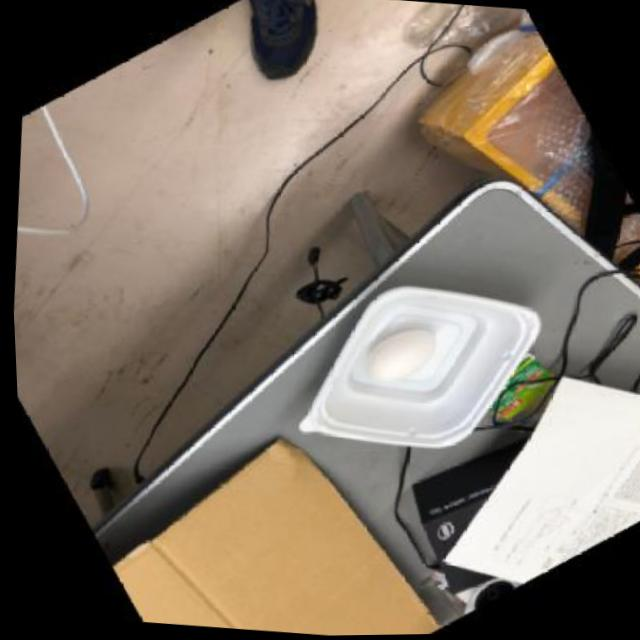egg: (357, 320, 434, 394)
